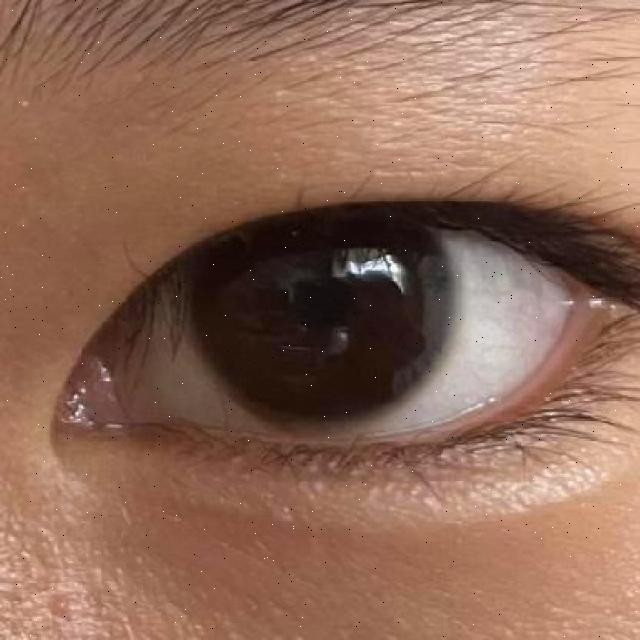Normal: (179, 162, 454, 427)
